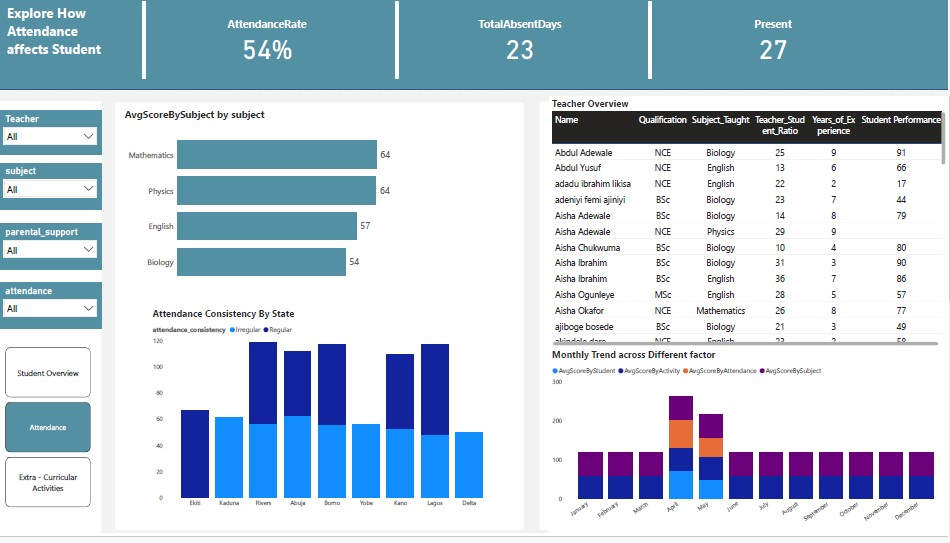

The dashboard page shown, as its layout file describes it:
{"tool":"powerbi","page":{"name":"Attendance","canvas":[1920,1080],"ordinal":1},"visuals":[{"type":"cardVisual","title":"Total Student ","fields":{"Data":["Dax.AttendanceRate","Dax.TotalAbsentDays","Dax.AvgScoreHighAttendance"]},"box":[284.9,0,1539.2,165.8],"z":0},{"type":"barChart","fields":{"Category":["school_performance performance_records.subject"],"Y":["Dax.AvgScoreBySubject"]},"box":[249.4,216.7,660.2,378],"z":2000},{"type":"tableEx","title":"Teacher Overview","fields":{"Values":["Teacher_Info.Name","Teacher_Info.Qualification","Teacher_Info.Subject_Taught","Sum(Teacher_Info.Teacher_Student_Ratio)","Sum(Teacher_Info.Years_of_Experience)","Dax.AvgScore"]},"box":[1113.7,196.5,806.3,509],"z":3000},{"type":"columnChart","title":"Attendance Consistency By State","fields":{"Y":["Dax.AvgScore"],"Series":["school_performance student_demographics.attendance_consistency"],"Category":["school_performance student_demographics.region_state"]},"box":[306.1,622.9,705.8,414.6],"z":4000},{"type":"columnChart","title":"Monthly Trend across Different factor","fields":{"Y":["Dax.AvgScoreByStudent","Dax.AvgScoreByActivity","Dax.AvgScoreByAttendance","Dax.AvgScoreBySubject"],"Category":["school_performance attendance_records.date.Variation.Date Hierarchy.Month"]},"box":[1114,705.8,805.7,372],"z":5000},{"type":"slicer","fields":{"Values":["Teacher_Info.Name"]},"box":[0,225.1,206.6,88.2],"z":5001},{"type":"slicer","fields":{"Values":["school_performance performance_records.subject"]},"box":[0,330.9,206.6,93.2],"z":5002},{"type":"slicer","fields":{"Values":["school_performance parents_info.parental_support"]},"box":[0,454.4,206.6,93.2],"z":5003},{"type":"slicer","fields":{"Values":["school_performance student_demographics.attendance_consistency"]},"box":[0,572.8,206.6,93.2],"z":5004},{"type":"textbox","box":[10.6,4.3,221.1,150.9],"z":5005},{"type":"pageNavigator","box":[12.8,703.7,172.2,323.1],"z":5006}]}

Visuals, with their boxes in screenshot pixels (x1, y1, x2, y2), scaled from the page's 1920x1080 canvas onto the 950x543 screenshot:
"Total Student " cardVisual: [left=141, top=0, right=903, bottom=83]
barChart - school_performance performance_records.subject x Dax.AvgScoreBySubject: [left=123, top=109, right=450, bottom=299]
"Teacher Overview" tableEx: [left=551, top=99, right=949, bottom=355]
"Attendance Consistency By State" columnChart: [left=151, top=313, right=501, bottom=522]
"Monthly Trend across Different factor" columnChart: [left=551, top=355, right=949, bottom=542]
slicer - Teacher_Info.Name: [left=0, top=113, right=102, bottom=158]
slicer - school_performance performance_records.subject: [left=0, top=166, right=102, bottom=213]
slicer - school_performance parents_info.parental_support: [left=0, top=228, right=102, bottom=275]
slicer - school_performance student_demographics.attendance_consistency: [left=0, top=288, right=102, bottom=335]
textbox: [left=5, top=2, right=115, bottom=78]
pageNavigator: [left=6, top=354, right=92, bottom=516]
